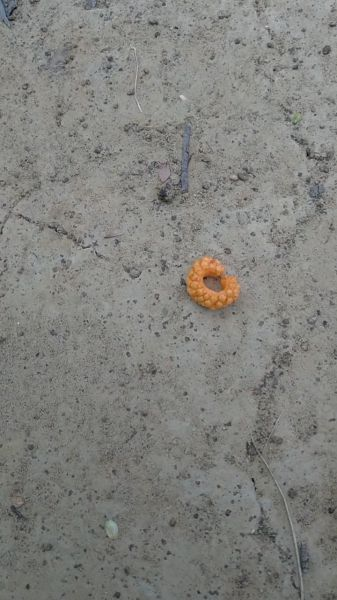eggs: (181, 252, 247, 315)
